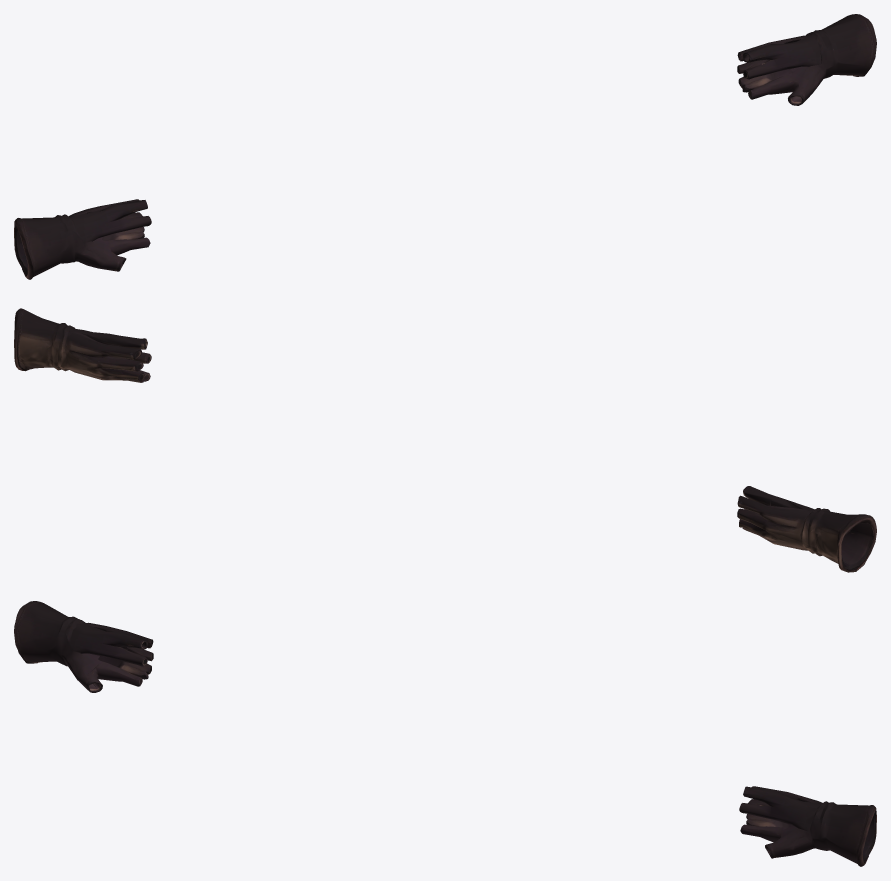
The model's file is mage_m_gloves.glb.
The picture shows the model from 3 angles, top to bottom: view 1: azimuth 30°, elevation 25°; view 2: azimuth 150°, elevation 25°; view 3: azimuth 330°, elevation 25°; orthographic projection.
Visible parts, largest first — view 1: world; view 2: world; view 3: world.
Boxes of the visible parts, x1,y1,x2,y2 form: world: [14, 14, 876, 279]; world: [14, 308, 876, 572]; world: [14, 601, 876, 866].
Bounding box in the file's own units: 1.66 × 0.1092 × 0.1198.
Materials: 1 (1 with a texture image).
